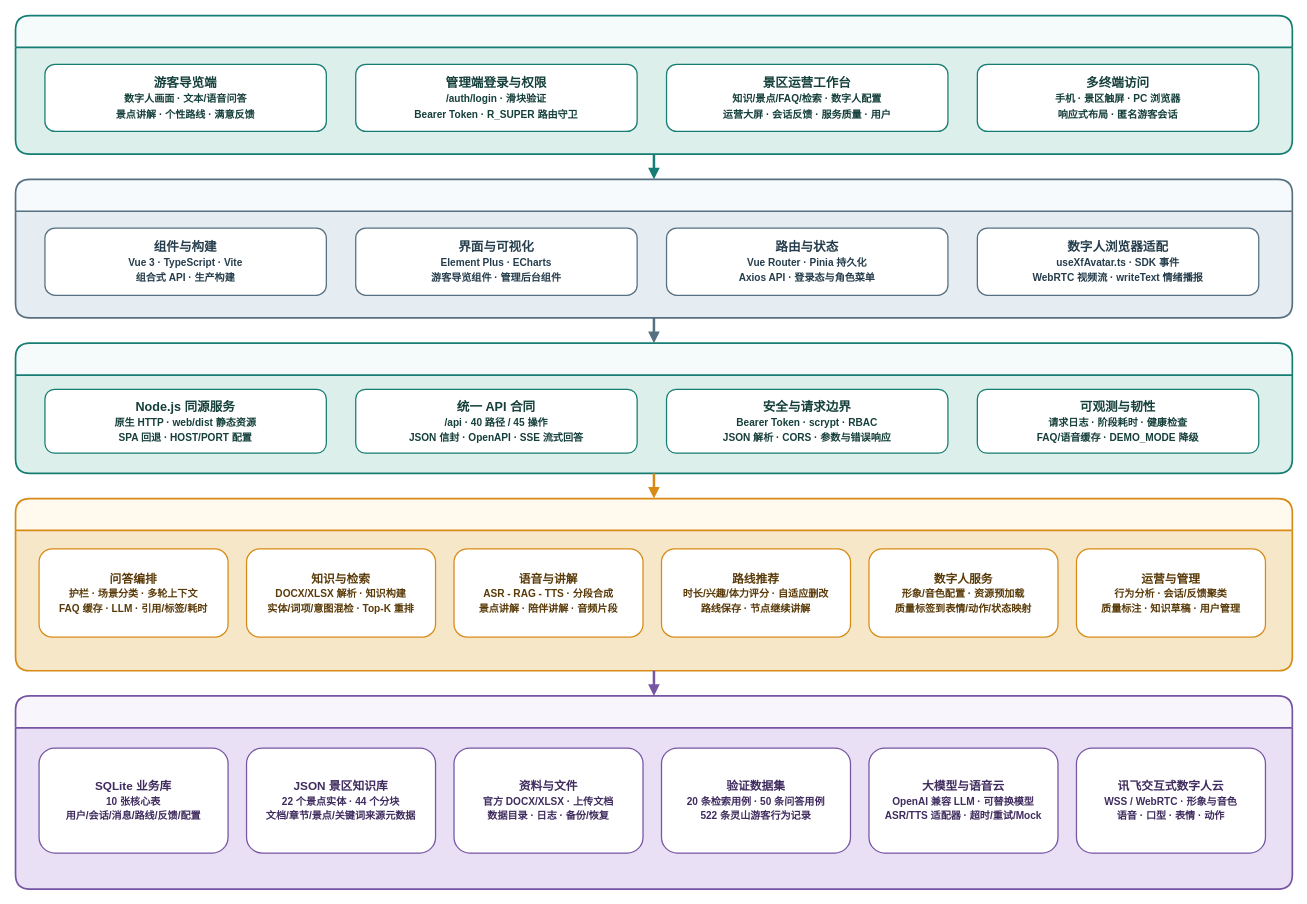
The diagram is 1307 pixels wide and 904 high, and some of its shapes have lost their labels. Here are the shapes that lost their labels. From the top down, the box of each, then its label:
(14, 14, 1293, 155): 访问与业务入口层
(14, 178, 1293, 318): Web 前端实现层
(14, 342, 1293, 474): 统一接入与平台支撑层
(14, 497, 1293, 671): 领域服务与智能编排层
(14, 695, 1293, 890): 数据资产与外部能力层
